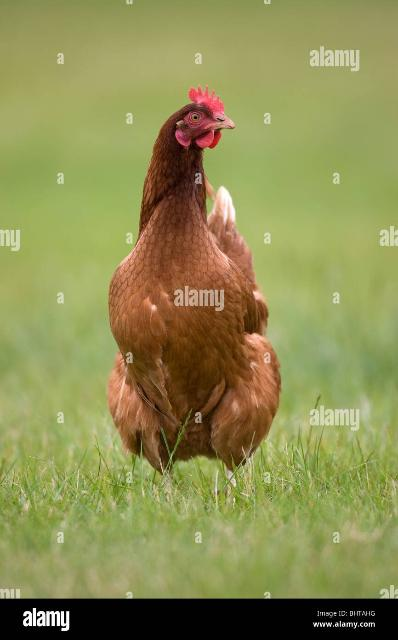Chicken: (111, 88, 283, 477)
